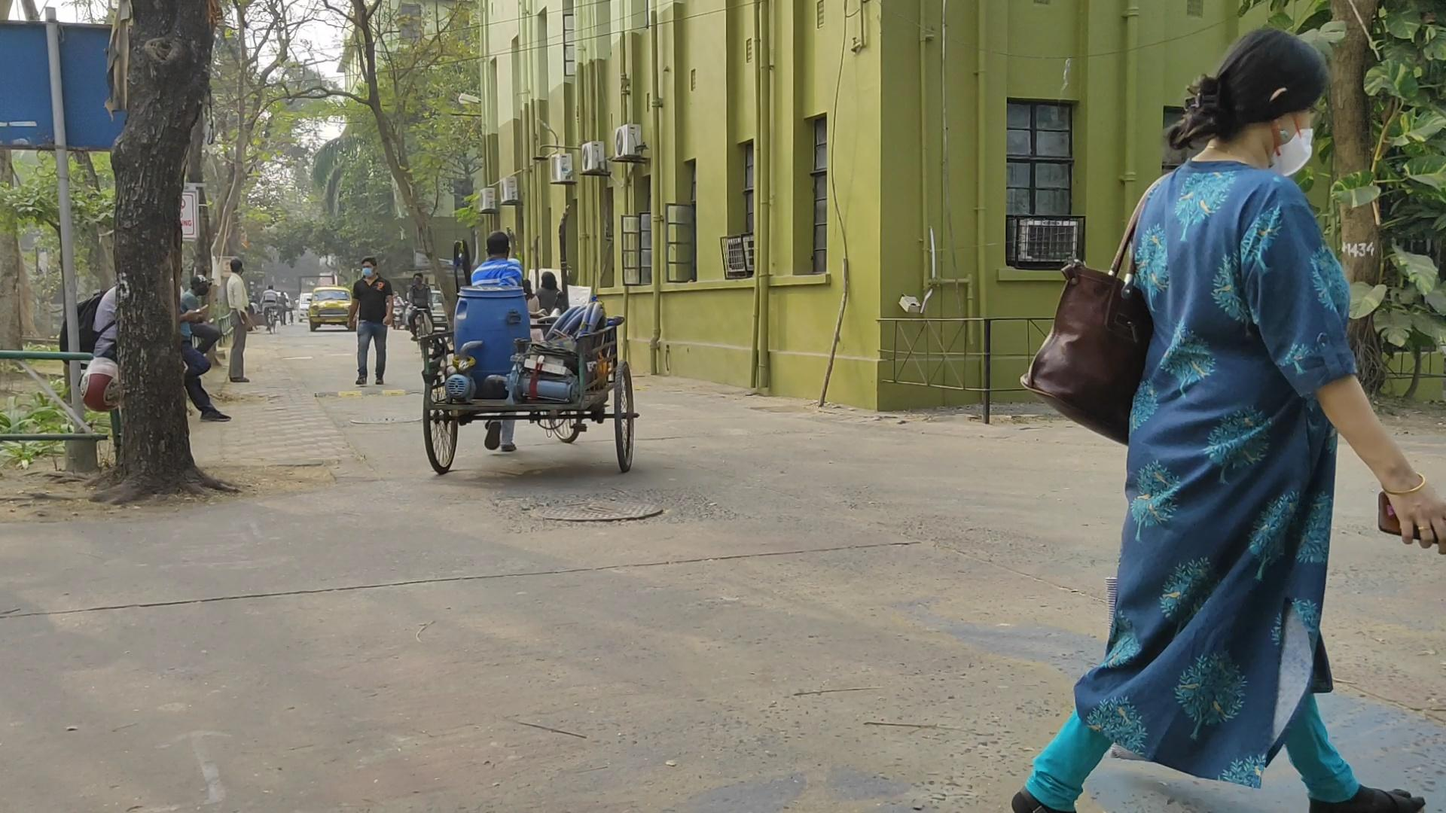bike: (404, 273, 435, 360), (261, 284, 279, 336)
car: (307, 285, 358, 333)
